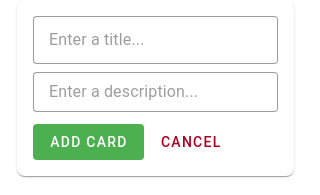
Scenario: AddNewTaskBlock › can cancel addition of a new task
This screenshot has width=320, height=195.
In the field with placeholder "Enter a title...": (155, 40) x1=33 y1=16 x2=278 y2=64, type "Test Task"
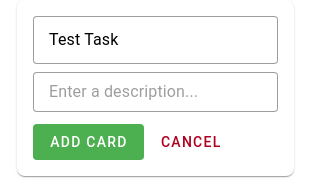
In the field with placeholder "Enter a description...": (155, 92) x1=33 y1=72 x2=278 y2=112, type "Test Description"
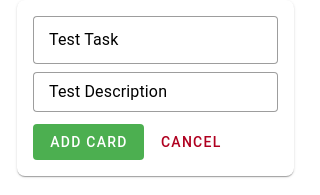
Click the button "CANCEL": click(191, 142) x1=144 y1=124 x2=238 y2=160
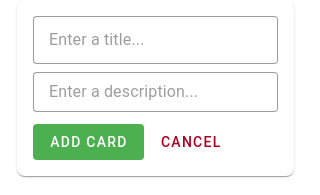
Now the field with placeholder "Enter a title..." is empty, box x1=33 y1=16 x2=278 y2=64
Now the field with placeholder "Enter a description..." is empty, box x1=33 y1=72 x2=278 y2=112
